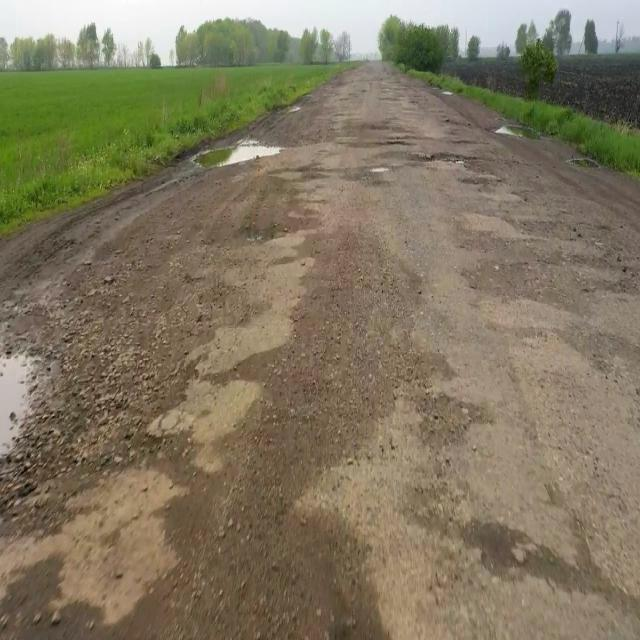Pothole: (0, 304, 106, 573), (169, 124, 302, 178), (456, 121, 524, 182), (398, 147, 484, 190), (272, 75, 315, 127)
